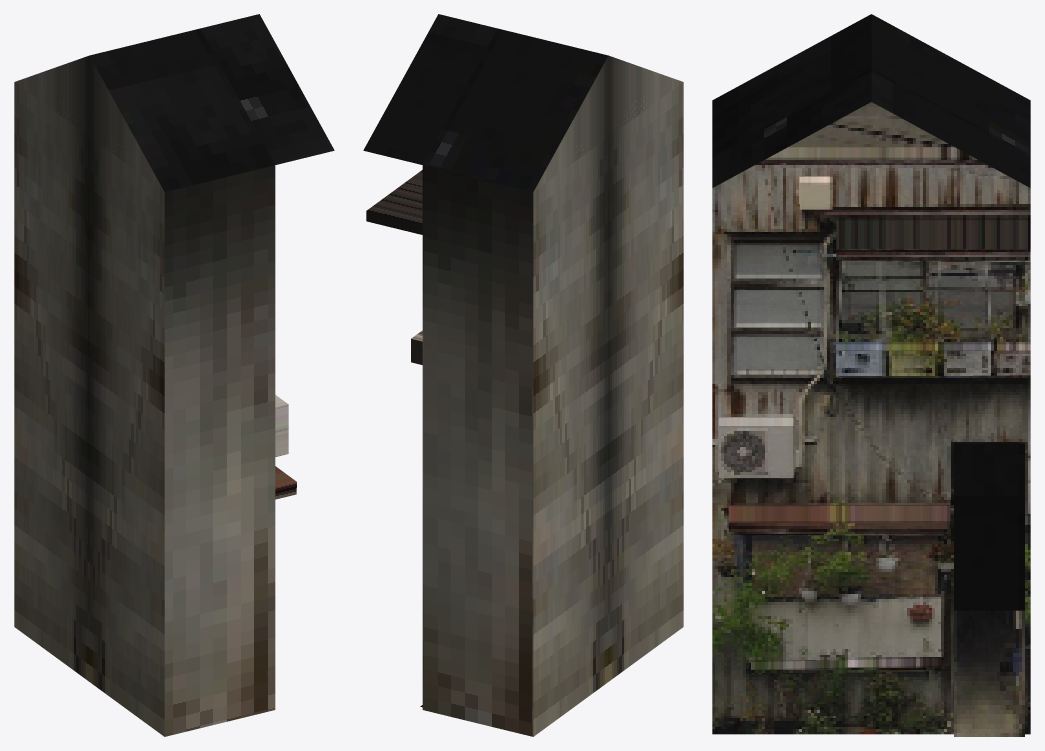
The model's file is japan_house_-_ps1_low_poly.glb.
3 views of the same model, side by side, from view 1: azimuth 30°, elevation 25°; view 2: azimuth 150°, elevation 25°; view 3: azimuth 270°, elevation 25° (orthographic). The views are drawn at different scales.
Visible parts, largest first — view 1: Cube; view 2: Cube; view 3: Cube.
Boxes of the visible parts, x1,y1,x2,y2 form: Cube: (14, 14, 334, 736); Cube: (363, 14, 683, 736); Cube: (712, 14, 1030, 736).
Bounding box in the file's own units: 4.27 × 15.02 × 6.54.
1 material, 1 textured.
